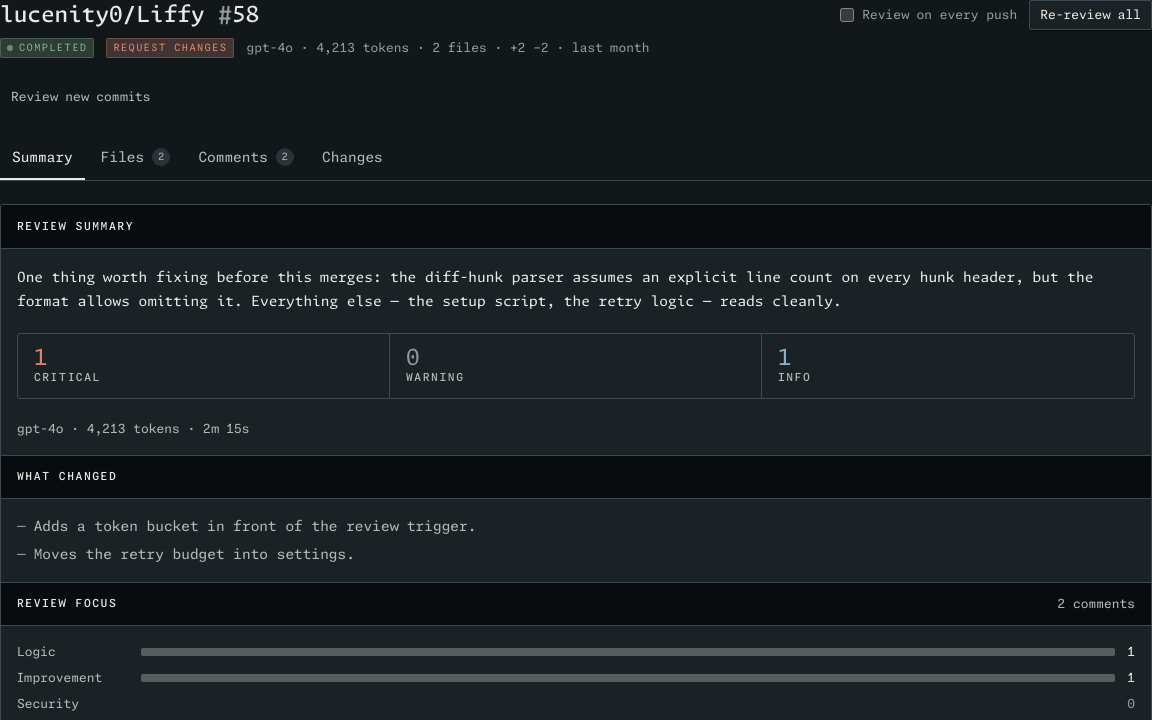
ReviewDetail — rating comments › puts the thumb back on failure, before the server gets a chance to
Click the tab "Comments 2". click: (246, 158)
box: [186,136,306,180]
(page scrolled)
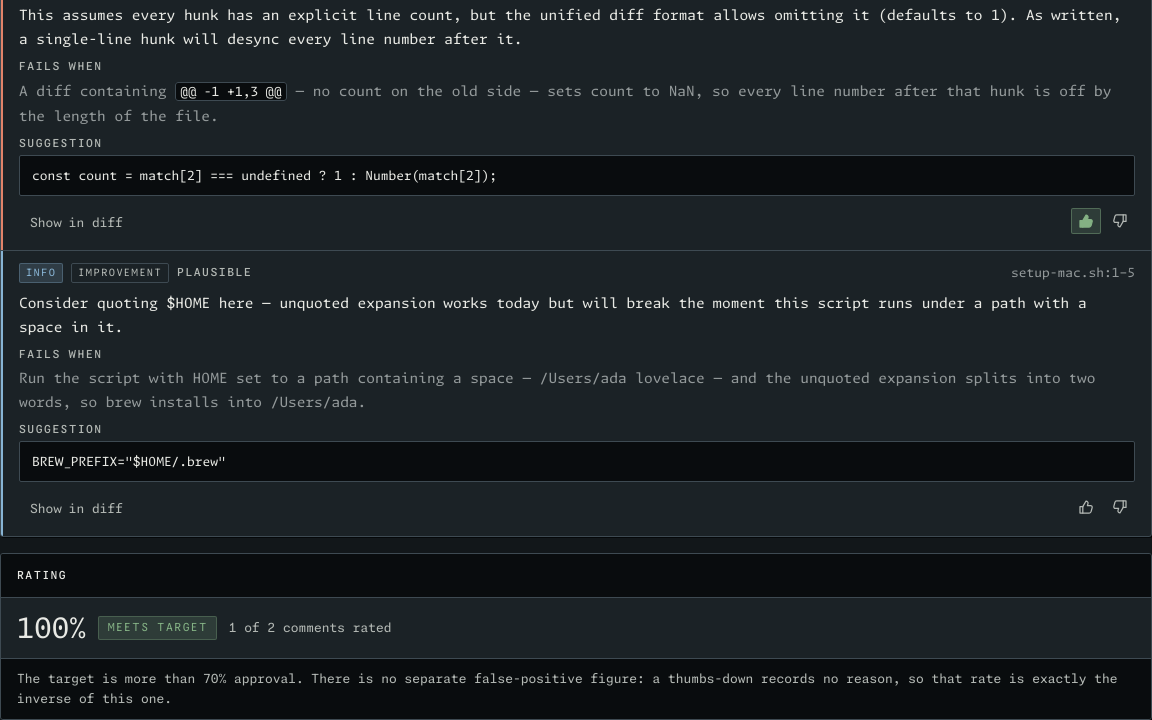
Click the button named "Helpful" below "setup-mac.sh". click: (1086, 507)
box: [1071,494,1101,520]
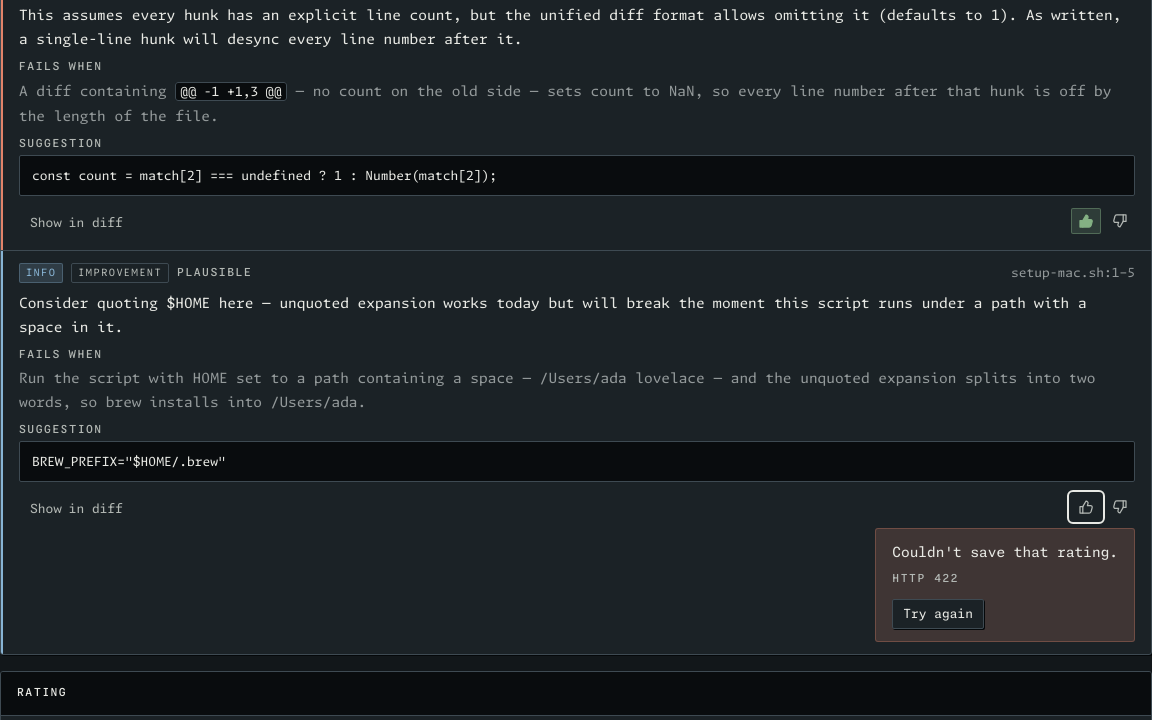
Expected: the message does not show "owner/name", [875,528,1135,642]
Expected: the message shows "Couldn't save that rating.", [892,544,1118,560]
